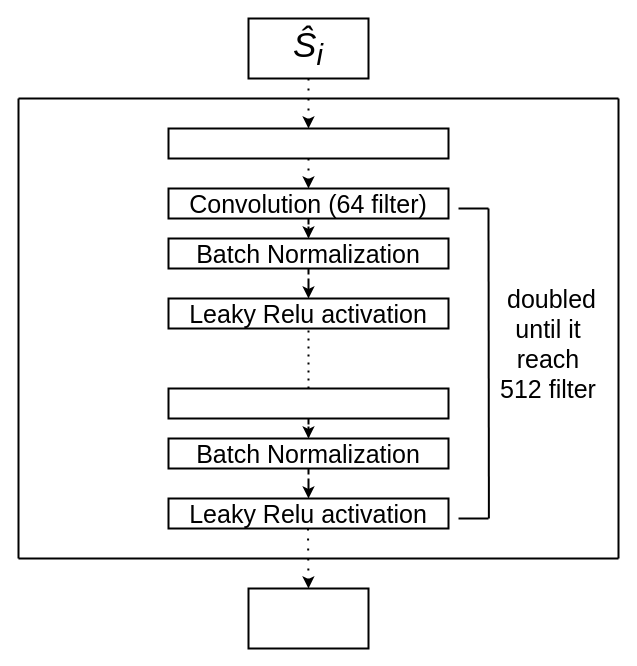
The diagram is 637 pixels wide and 666 high, and some of its shapes have lost their labels. The shapes that lost their labels are listed below. From the top down, each one's centre as x and y in pixels, then its label:
At [308,143]: "Pooling Layer (Down 2)".
At [308,403]: "Convolution (512 filter)".
At [308,618]: "Y i".
